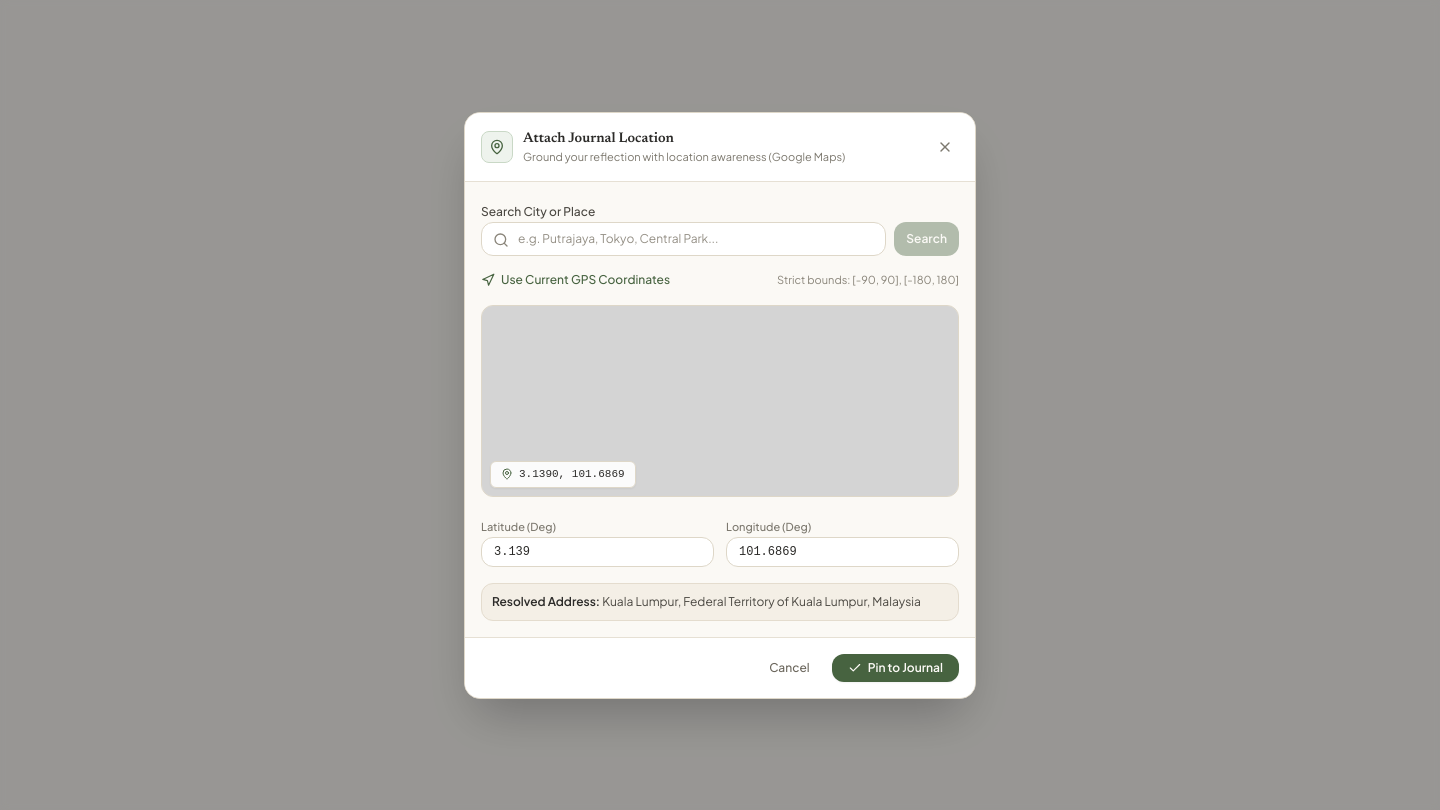
Test: LocationPickerModal › address search › surfaces a transport failure
Type "x" into the field with placeholder "e.g. Putrajaya, Tokyo, Central Park..." at (684, 239), box left=481, top=222, right=886, bottom=256
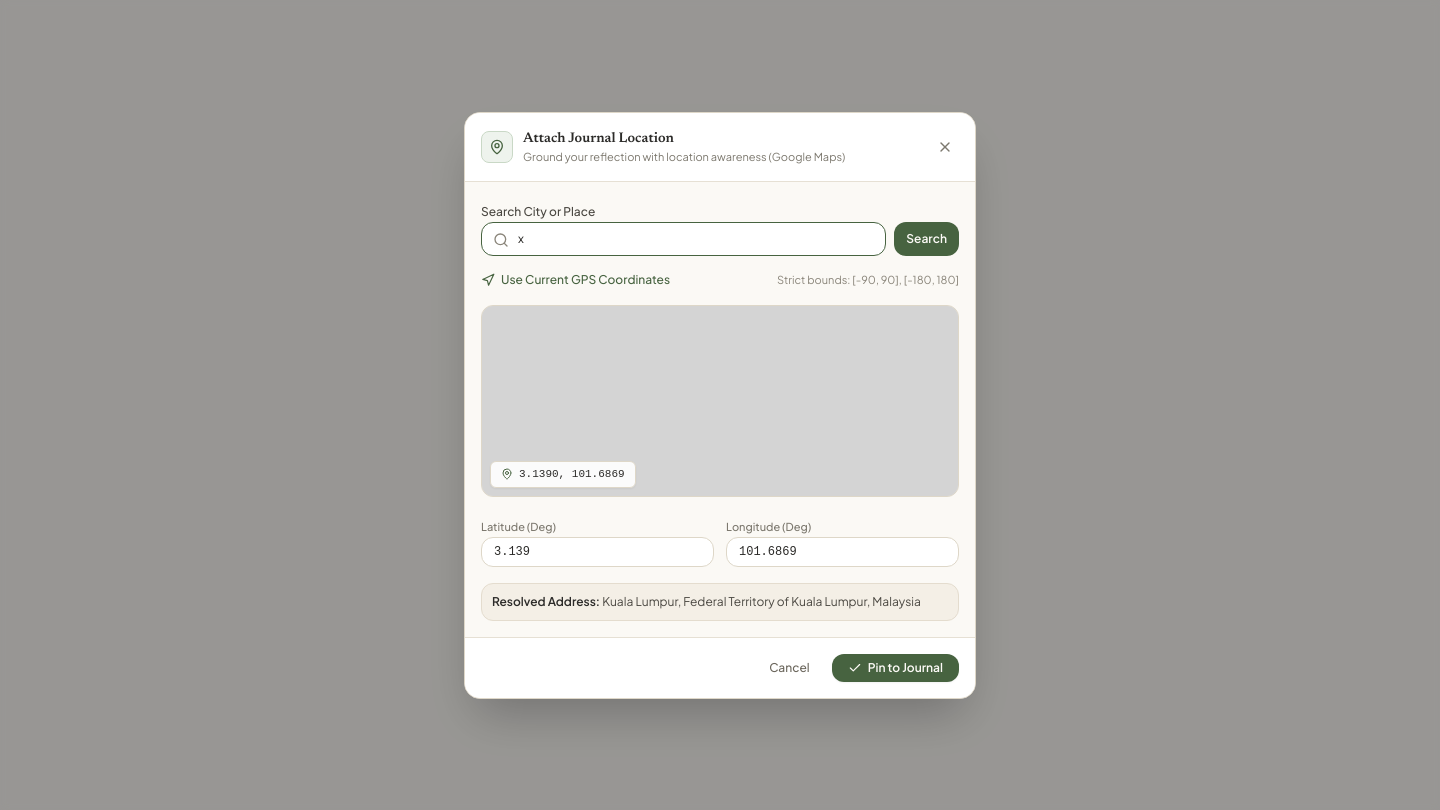
Click the button "Search" at (927, 239), box left=894, top=222, right=959, bottom=256
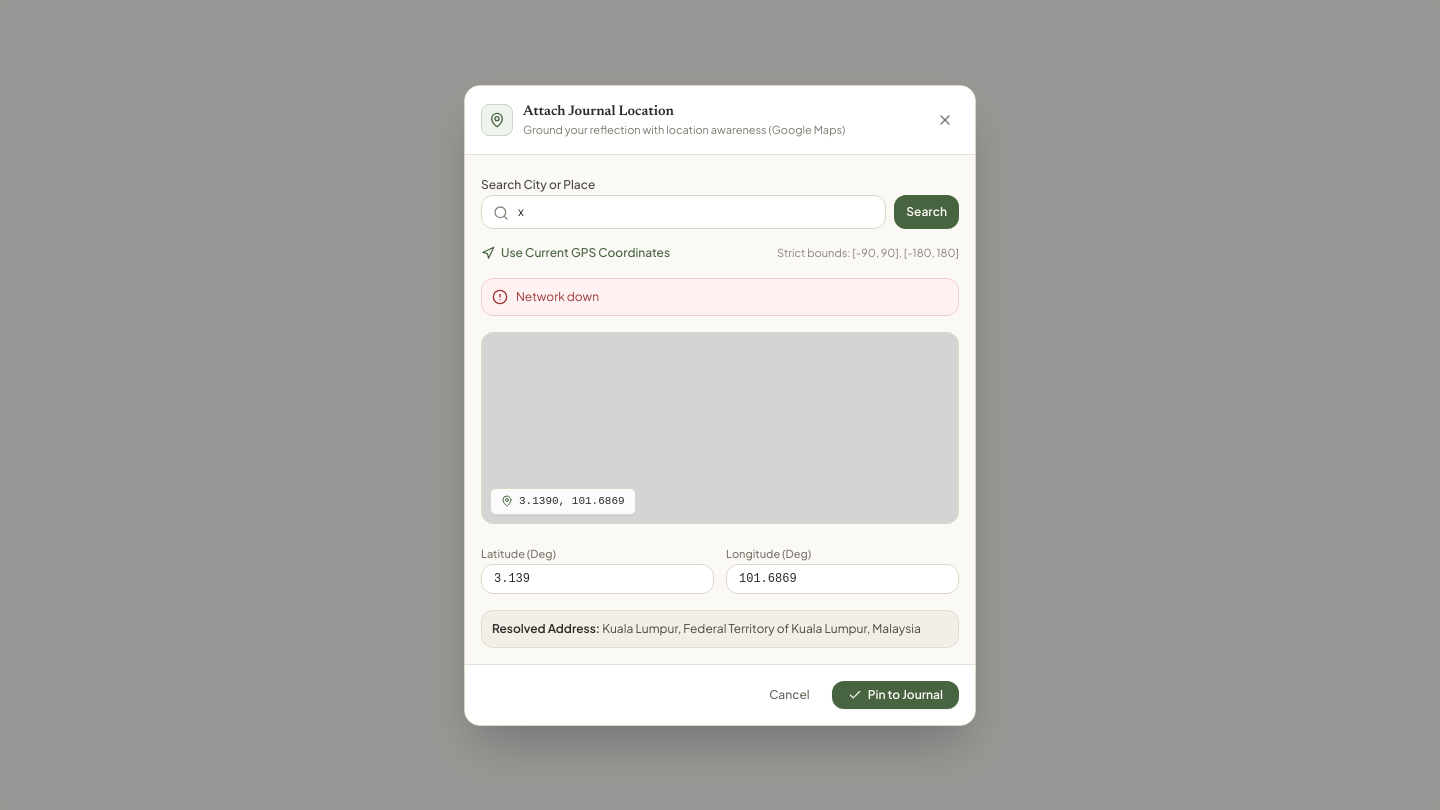
Now the text "Network down" is shown, box left=516, top=288, right=599, bottom=304
